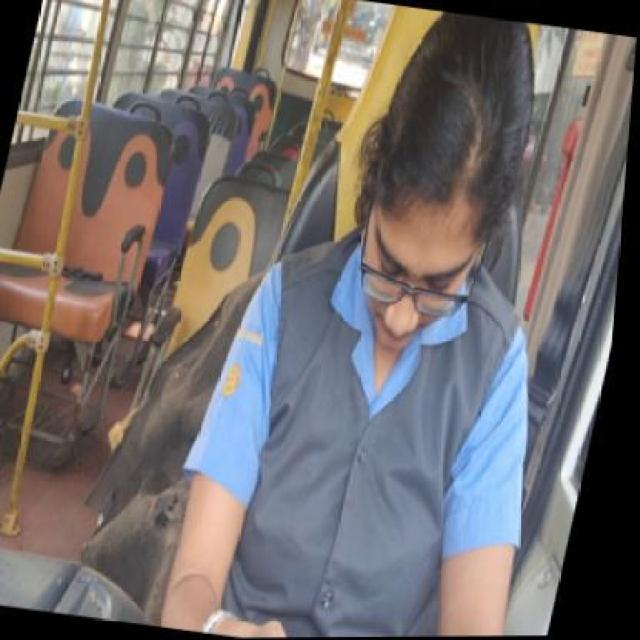Inattentive: (361, 3, 533, 350)
